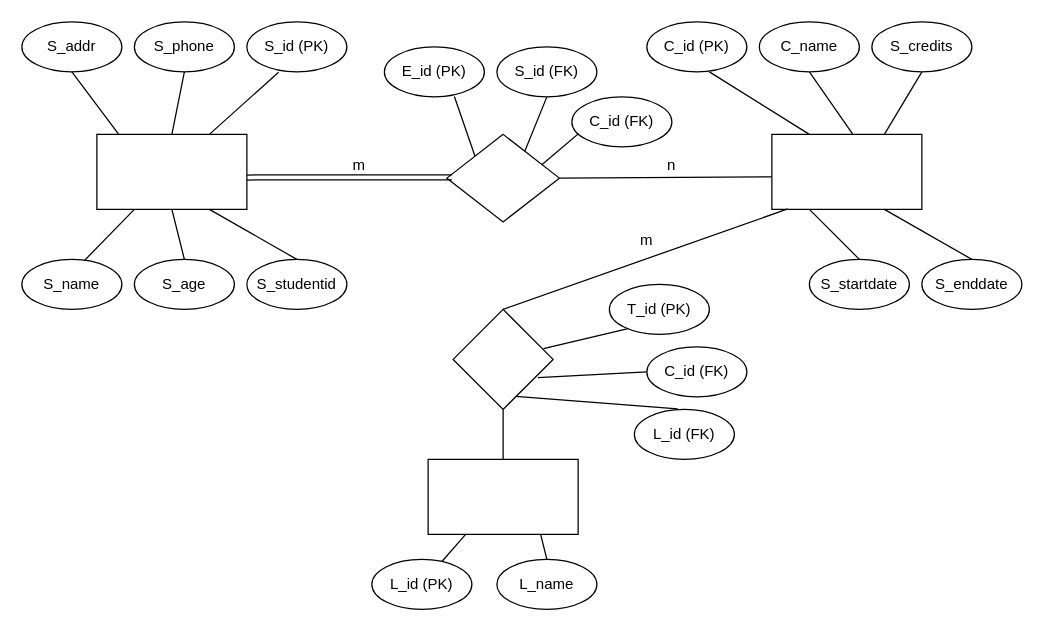
This 1044x631 diagram has some shape labels left out. Each missing label, with the centre of its shape:
"Course" belongs at (x=846, y=171).
"Enrolled In" belongs at (x=502, y=177).
"Lecturer" belongs at (x=502, y=496).
"Student" belongs at (x=171, y=171).
"Teach" belongs at (x=502, y=358).
